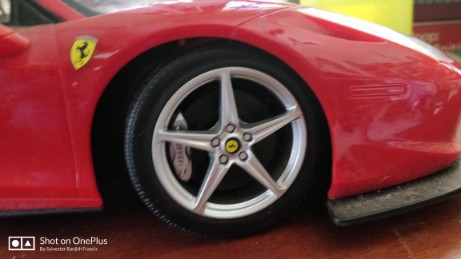unaligned_wheel: (109, 41, 330, 244)
